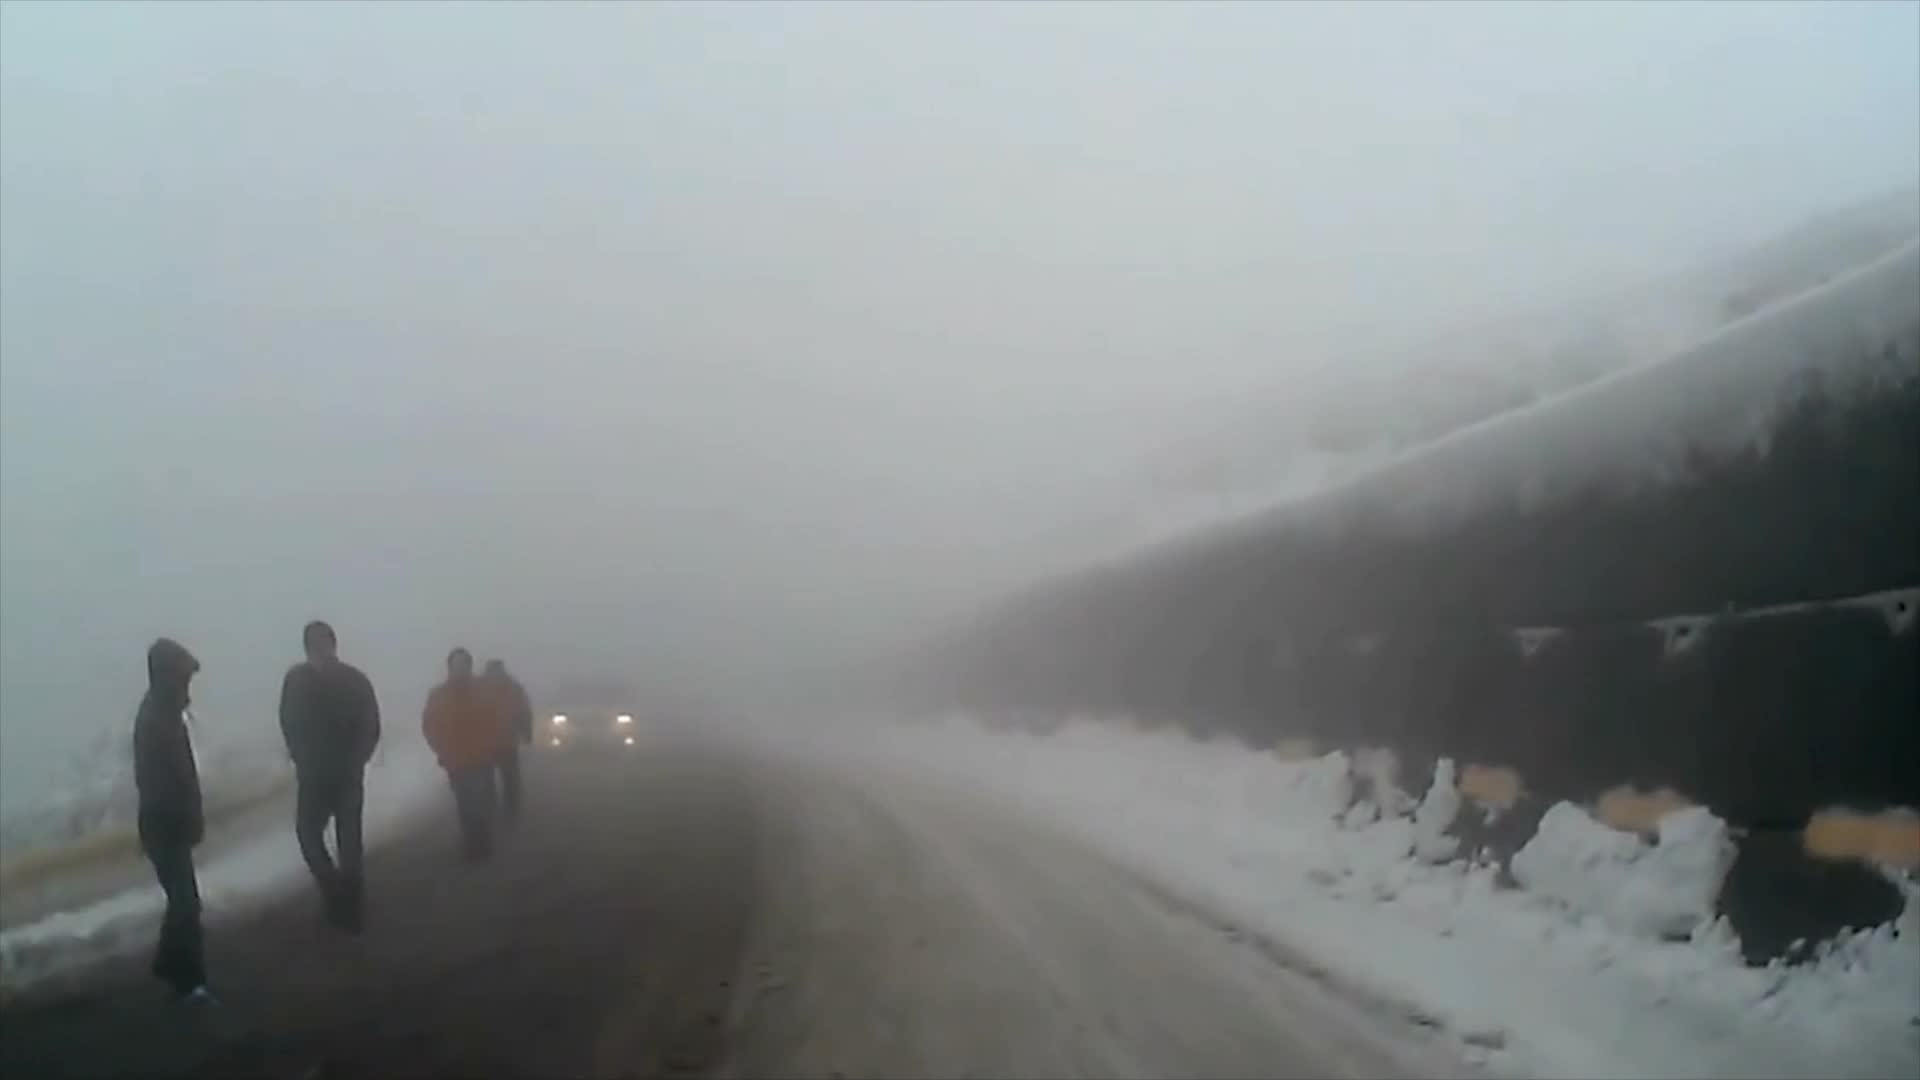pedestrian: (276, 623, 384, 940), (131, 637, 211, 1001), (418, 647, 514, 868)
vehicle: (544, 679, 640, 764)
